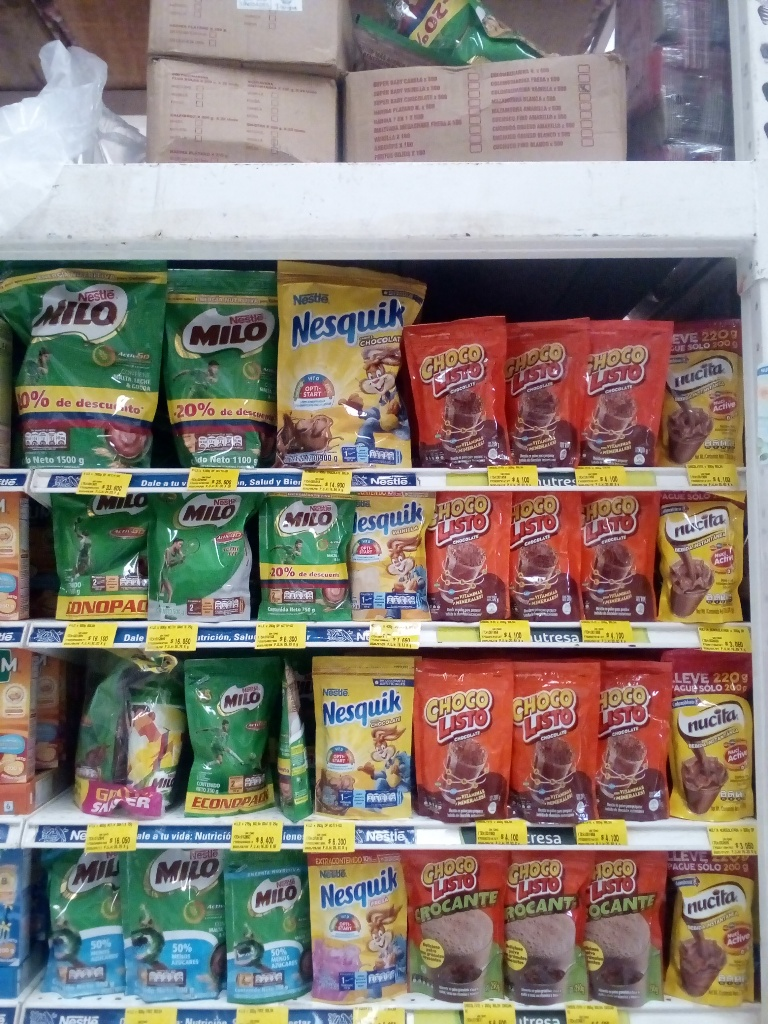COL0170102DYP25000: (401, 849, 501, 1000)
COL0170103DYP20000: (425, 490, 508, 618)
COL0170203DYP25000: (257, 493, 344, 622)
COL0170203DYP50000: (73, 673, 127, 816)
COL0170205DYP20000: (224, 854, 315, 1000)
COL0170205DYP50000: (39, 846, 119, 1000)
COL0170303DYP20000: (296, 650, 419, 820)
COL0170306DYP20000: (344, 492, 427, 621)
